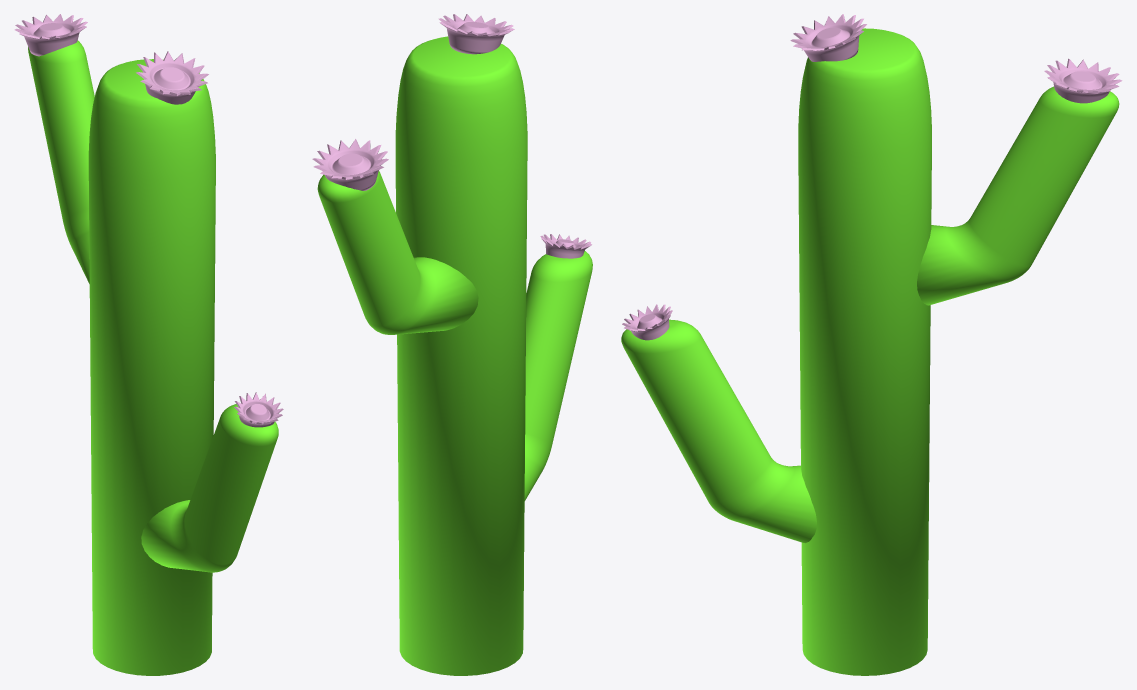
File: Cactus1.fbx
3 views of the same model, side by side, from view 1: azimuth 30°, elevation 25°; view 2: azimuth 150°, elevation 25°; view 3: azimuth 270°, elevation 25° (orthographic). The views are drawn at different scales.
Parts seen in each view (by area): view 1: Cylinder.001, Cylinder.003, Cylinder.004, Cylinder.005; view 2: Cylinder.001, Cylinder.004, Cylinder.003, Cylinder.005; view 3: Cylinder.001, Cylinder.003, Cylinder.004, Cylinder.005.
Boxes of the visible parts, <box> form: Cylinder.001: <box>28,40,278,675</box>; Cylinder.003: <box>136,51,208,104</box>; Cylinder.004: <box>14,14,87,56</box>; Cylinder.005: <box>234,392,283,427</box>; Cylinder.001: <box>317,36,592,675</box>; Cylinder.004: <box>312,139,388,190</box>; Cylinder.003: <box>438,14,514,54</box>; Cylinder.005: <box>540,234,591,258</box>; Cylinder.001: <box>621,28,1119,675</box>; Cylinder.003: <box>790,14,866,61</box>; Cylinder.004: <box>1044,58,1122,103</box>; Cylinder.005: <box>622,304,672,340</box>.
Bounding box in the file's own units: 225 × 1164 × 843.
